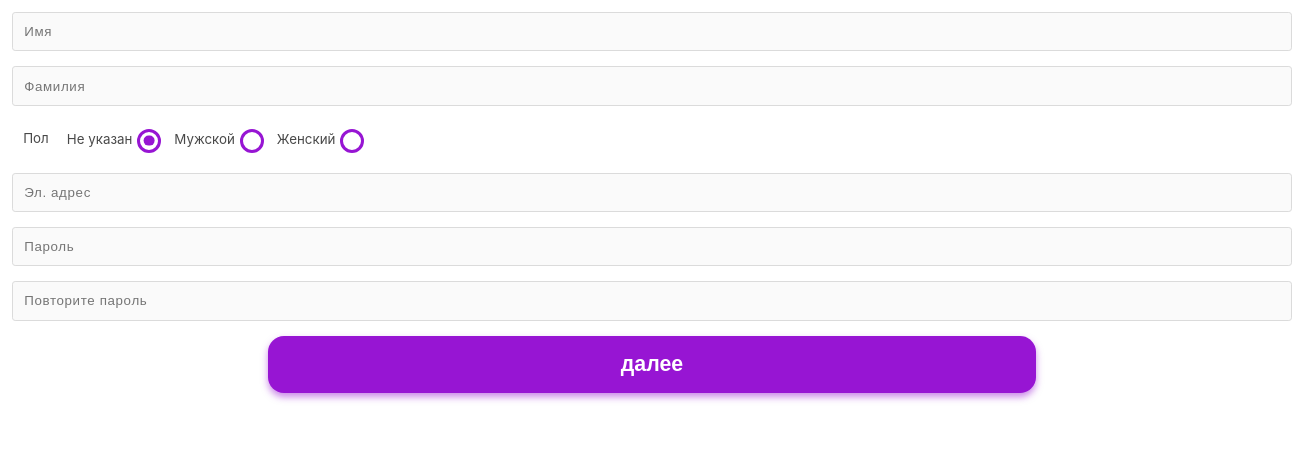
it: RegistrationForm › reports when email is already used
In the field with placeholder "Имя": (652, 32) [12,12,1292,51], type "Ivan"
In the field with placeholder "Фамилия": (652, 86) [12,66,1292,106], type "Ivanov"
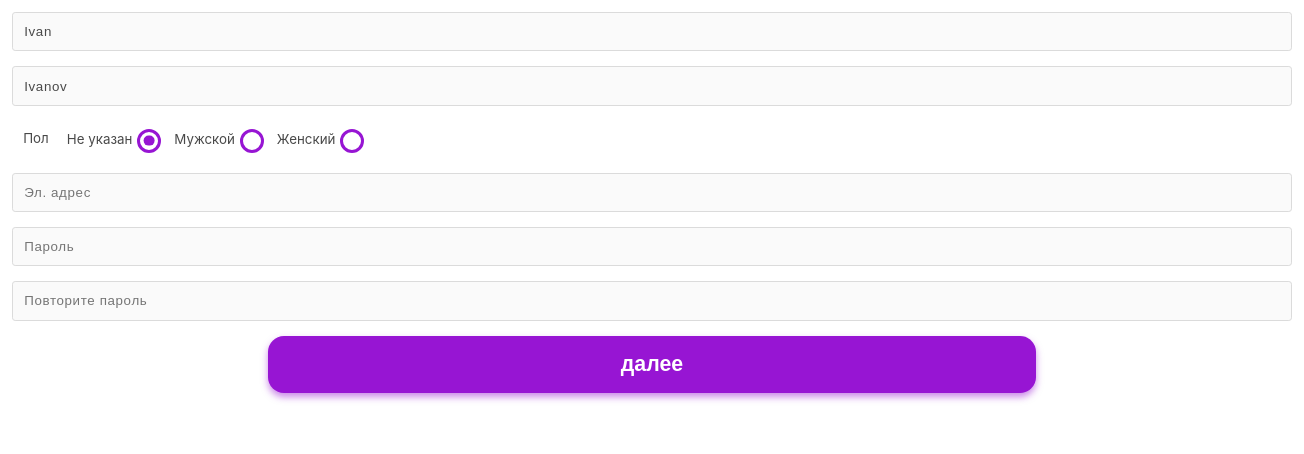
In the field with placeholder "Эл. адрес": (652, 192) [12,172,1292,212], type "asdf@asdf.asdf"
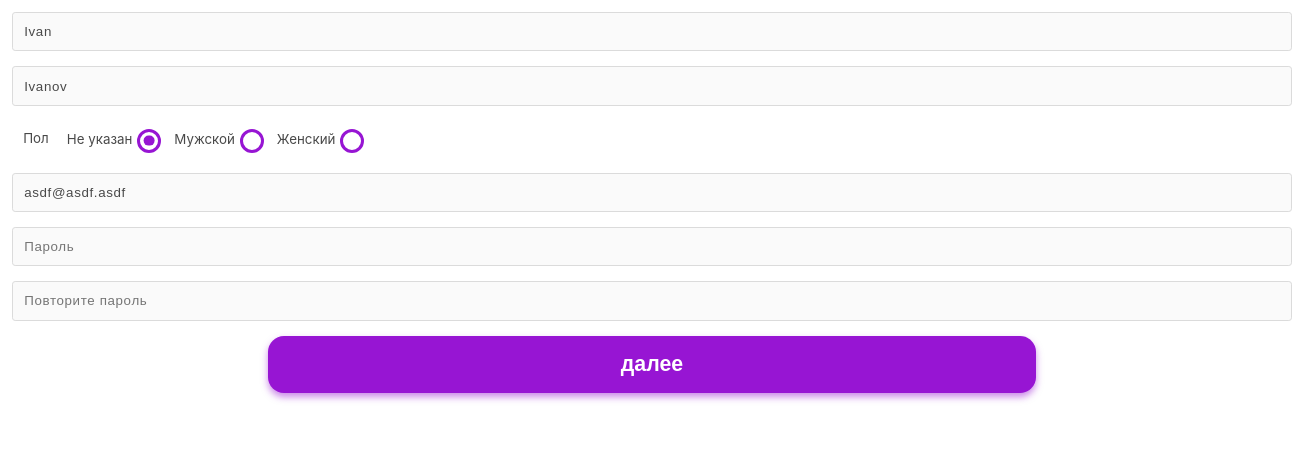
In the password field with placeholder "Пароль": (652, 247) [12,227,1292,266], type "Hunter2!"
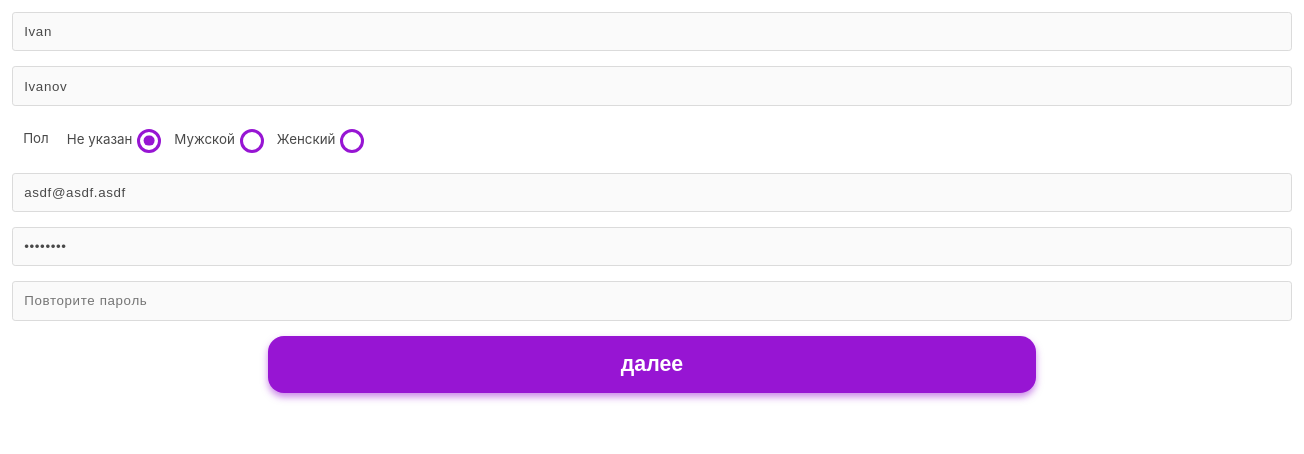
In the password field with placeholder "Повторите пароль": (652, 301) [12,281,1292,321], type "Hunter2!"
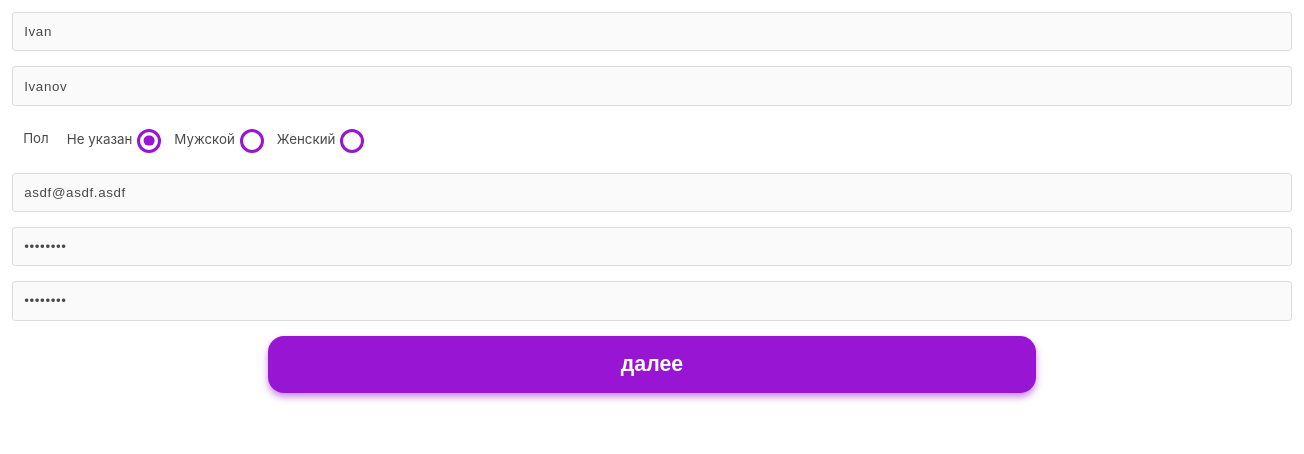
Click the radio button labelled "Мужской": (252, 141) [240,129,264,153]
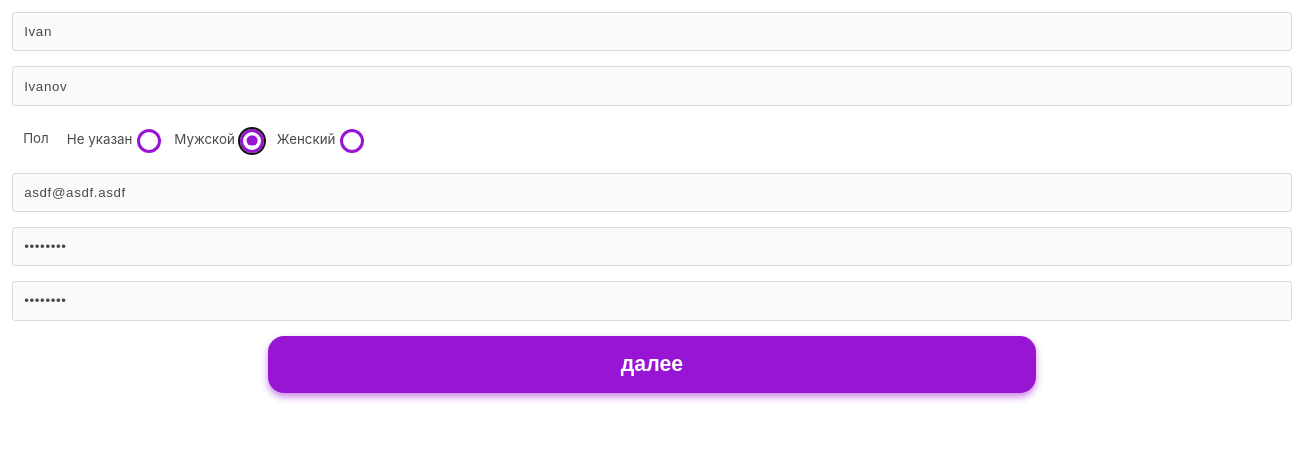
Click the button "далее": (652, 364) [268,336,1036,393]
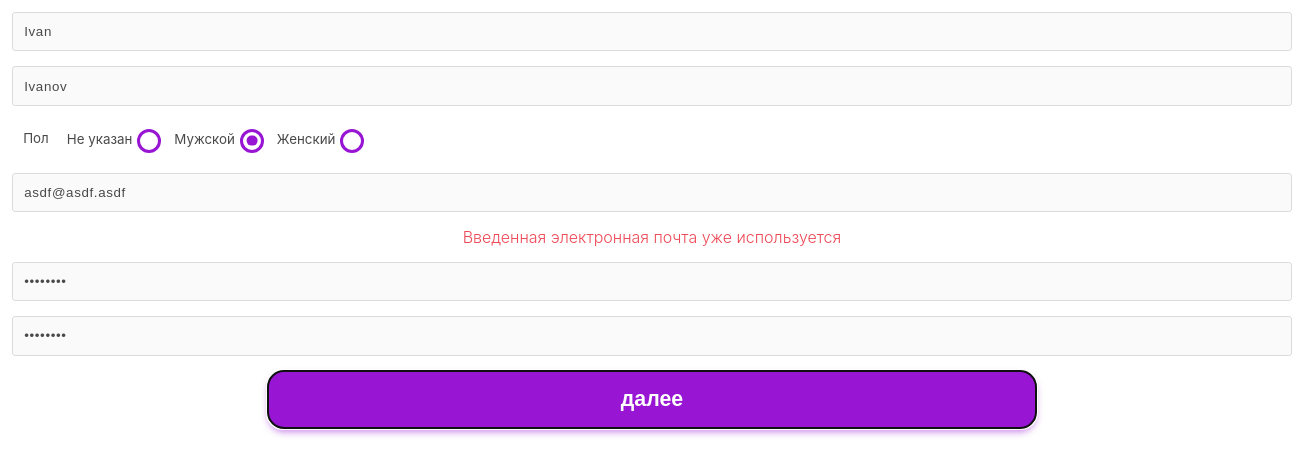
Expected: the text "Введенная электронная почта уже используется" is shown, [463,227,841,247]
